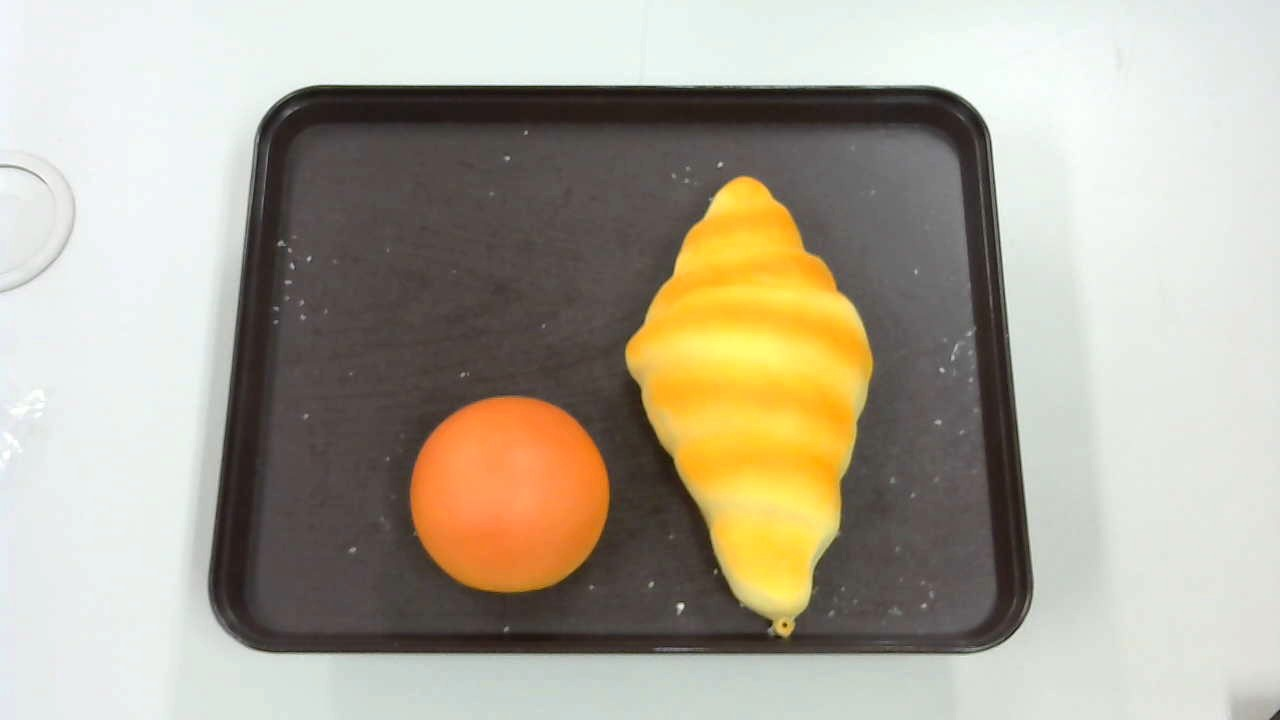bun: (409, 395, 609, 593)
croissant: (625, 175, 874, 639)
